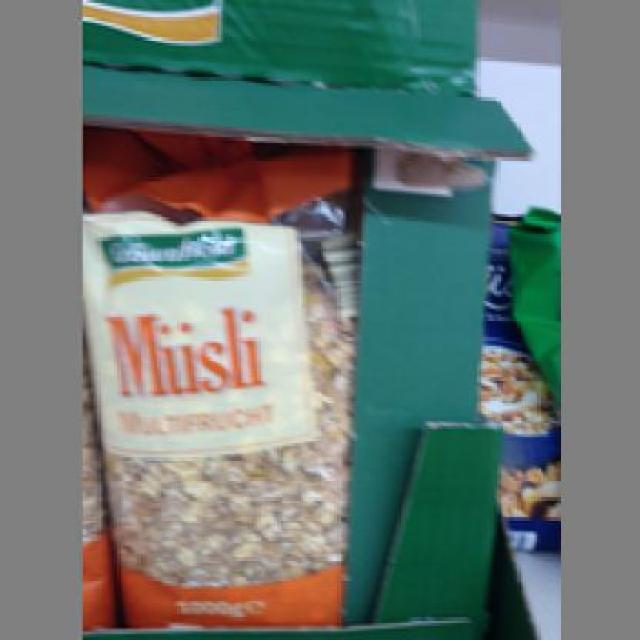Cereal: (77, 197, 354, 623)
